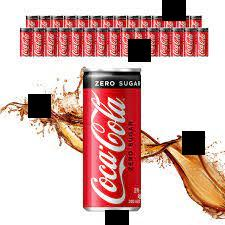cocacola_zero: (82, 66, 141, 213)
